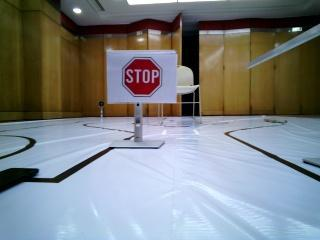stop: (108, 49, 178, 106)
